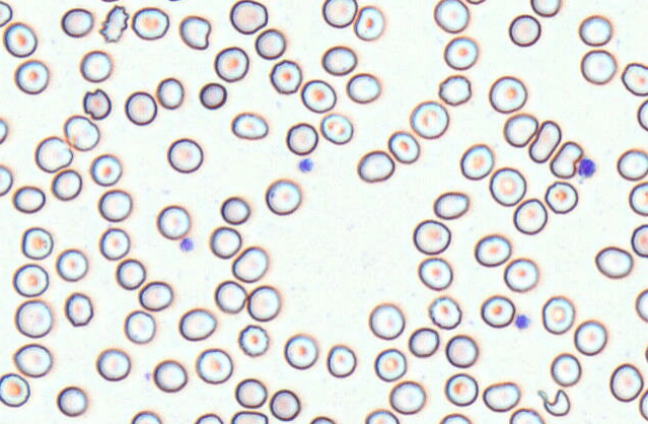PLT: (577, 159, 597, 179), (514, 314, 531, 332), (180, 238, 196, 255), (297, 159, 315, 174)
RBC: (409, 100, 449, 139), (14, 299, 52, 338), (488, 75, 527, 113), (489, 166, 526, 206), (195, 347, 233, 384), (231, 245, 268, 282), (368, 302, 405, 339), (166, 137, 203, 173), (265, 178, 301, 215), (63, 114, 99, 151), (412, 219, 450, 254), (594, 245, 633, 279), (13, 343, 52, 377), (609, 363, 643, 402), (229, 0, 268, 34), (541, 295, 575, 334), (213, 46, 249, 82), (459, 143, 494, 180), (131, 6, 169, 40), (178, 307, 216, 341), (2, 21, 37, 57), (580, 49, 616, 84), (12, 263, 49, 297), (513, 197, 547, 234), (246, 284, 280, 321), (474, 233, 511, 267), (14, 59, 49, 94), (503, 257, 538, 292), (573, 319, 607, 355), (300, 79, 336, 113), (389, 380, 425, 414), (284, 333, 318, 369), (357, 149, 394, 182), (156, 204, 190, 239), (443, 36, 478, 70), (480, 294, 515, 328), (433, 0, 469, 33), (98, 4, 129, 42), (482, 381, 520, 412), (96, 347, 130, 381), (444, 372, 478, 406), (544, 180, 578, 214), (152, 359, 187, 392), (417, 257, 452, 290), (124, 90, 157, 125), (269, 59, 302, 94), (214, 279, 247, 313), (428, 295, 461, 329), (98, 189, 132, 222), (79, 49, 112, 82), (285, 122, 318, 155), (55, 248, 88, 281), (387, 130, 420, 163), (89, 153, 122, 186), (445, 334, 478, 367), (374, 347, 406, 381), (578, 14, 612, 46), (124, 309, 155, 344), (353, 5, 384, 40), (138, 280, 173, 311), (321, 45, 357, 75), (231, 111, 268, 140), (209, 225, 241, 258), (21, 226, 53, 259), (508, 14, 541, 46), (438, 74, 471, 106), (346, 72, 380, 103), (550, 352, 581, 386), (0, 372, 30, 407), (237, 324, 269, 356), (99, 227, 130, 260), (320, 113, 353, 144), (616, 148, 647, 181), (326, 343, 356, 377), (321, 0, 357, 28), (433, 191, 469, 219), (51, 168, 82, 200), (269, 388, 300, 420), (60, 7, 93, 37), (234, 378, 267, 408), (64, 292, 93, 326), (56, 385, 87, 416), (254, 28, 285, 59), (115, 258, 145, 290), (408, 327, 439, 357), (12, 185, 45, 213), (156, 77, 184, 109), (621, 62, 647, 96), (220, 196, 250, 224), (199, 82, 226, 109), (628, 181, 647, 216), (630, 224, 647, 257), (509, 407, 544, 423), (530, 0, 561, 17), (364, 408, 399, 423), (230, 410, 268, 423), (0, 164, 13, 196), (635, 288, 647, 322), (130, 410, 161, 423), (439, 412, 471, 423), (637, 98, 647, 131), (0, 0, 12, 27), (194, 412, 223, 423), (639, 388, 648, 421), (309, 415, 335, 423), (0, 118, 8, 143), (466, 0, 486, 5), (644, 343, 648, 363), (165, 0, 188, 2), (100, 0, 119, 2)
Schistocyte: (530, 116, 563, 166), (33, 134, 75, 173), (502, 112, 539, 148), (551, 140, 585, 179), (180, 16, 213, 52), (83, 86, 114, 120), (541, 388, 571, 416)
